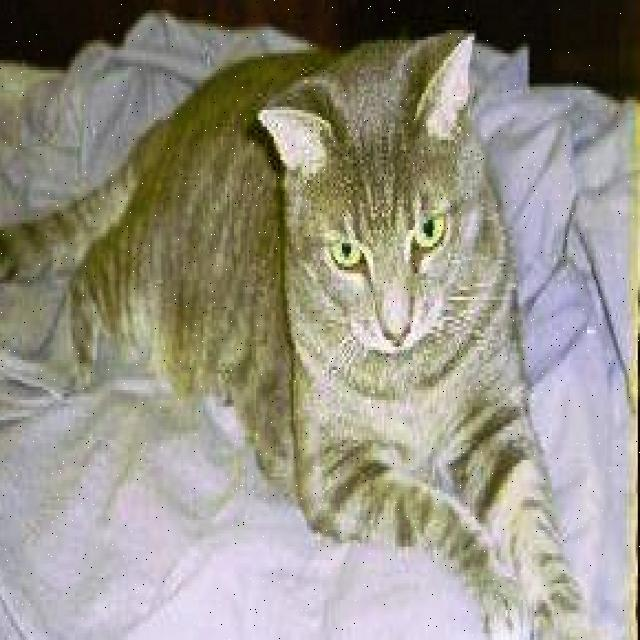Cat: (268, 40, 486, 367)
